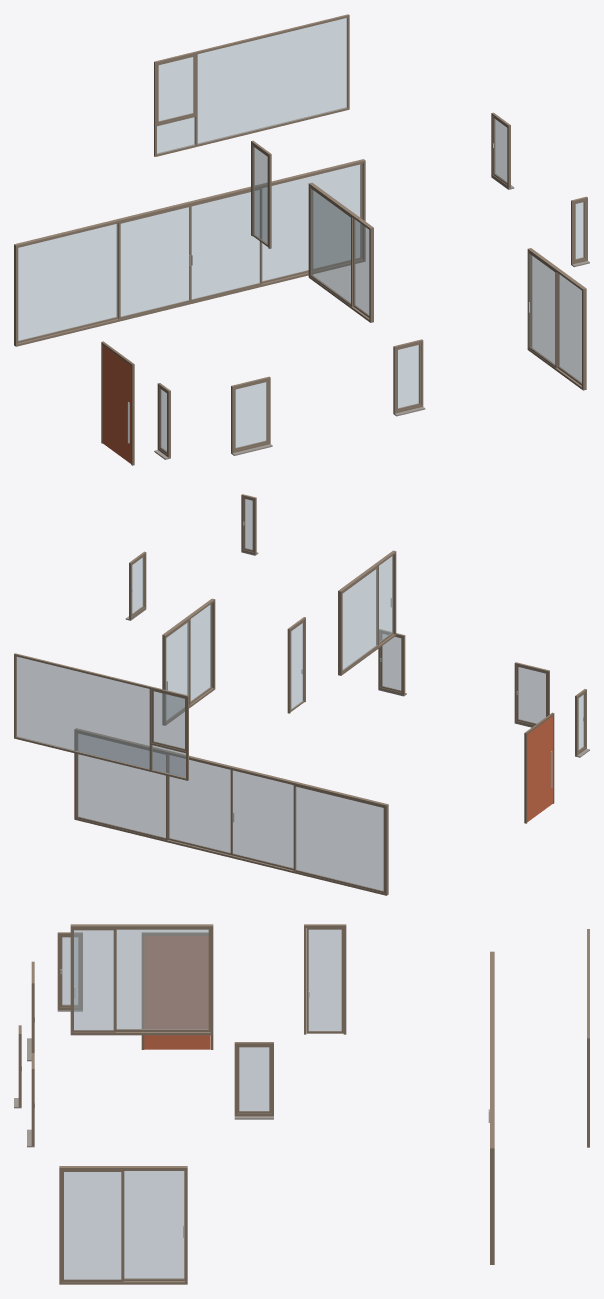
The model's file is stage-8.glb.
3 views of the same model, one above another, from view 1: azimuth 30°, elevation 25°; view 2: azimuth 150°, elevation 25°; view 3: azimuth 270°, elevation 25° (orthographic). The views are drawn at different scales.
Parts seen in each view (by area): view 1: Geom3D (×4); view 2: Geom3D (×4); view 3: Geom3D (×5).
Part boxes in pixels (x1,y1,x2,y2): Geom3D (×4): [14, 14, 587, 465]; Geom3D (×4): [14, 494, 586, 895]; Geom3D (×5): [14, 924, 589, 1284].
Bounding box in the file's own units: 13.21 × 6.2 × 13.41.
